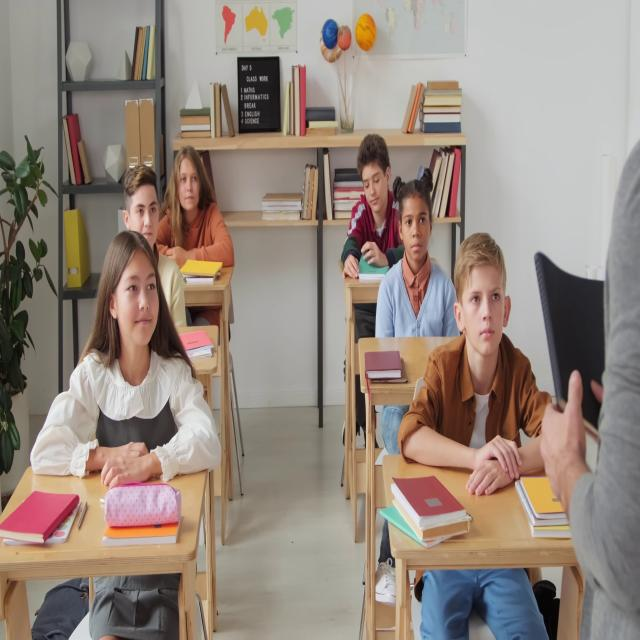listening: (396, 240, 564, 638), (32, 233, 224, 472), (373, 175, 458, 346), (122, 166, 190, 328), (156, 144, 234, 276)
reading: (342, 133, 404, 282)
